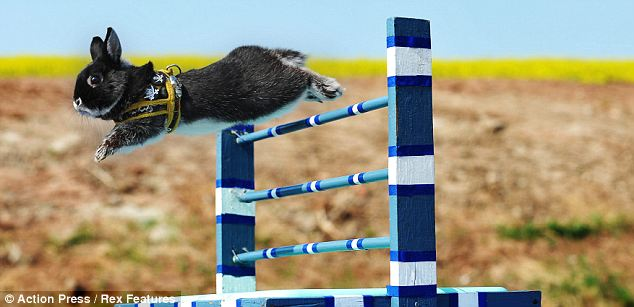bunny: (57, 13, 357, 165)
